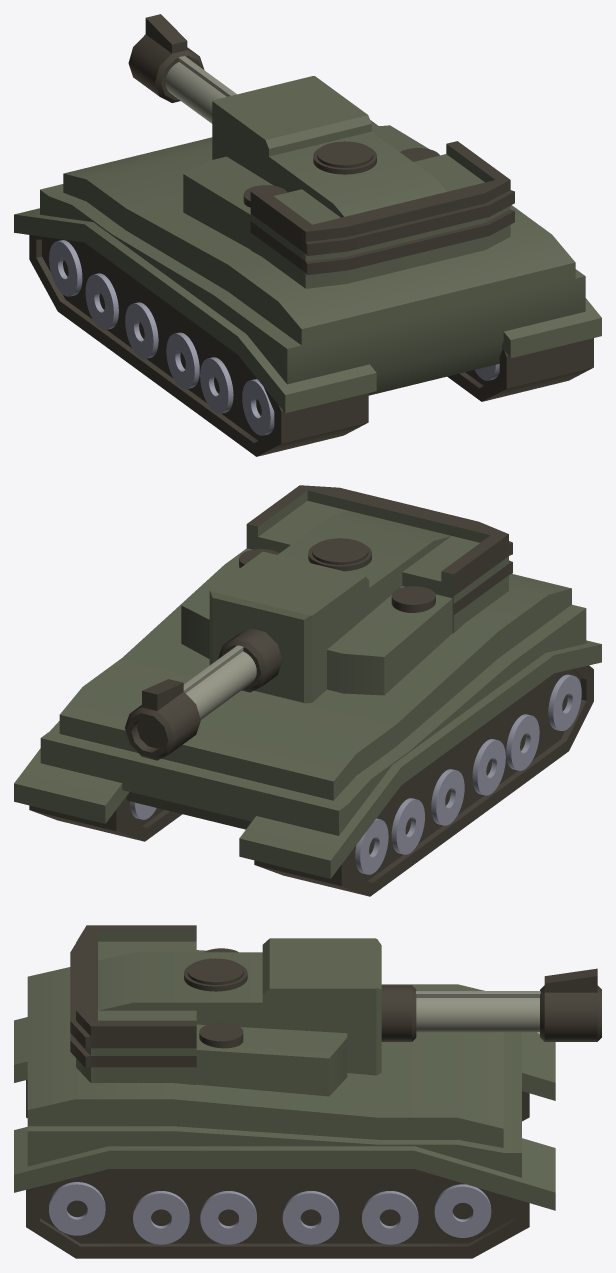
Rendered from tower_1.fbx.
3 views of the same model, one above another, from view 1: azimuth 30°, elevation 25°; view 2: azimuth 150°, elevation 25°; view 3: azimuth 270°, elevation 25° (orthographic).
Visible parts, largest first — view 1: 空白_1; view 2: 空白_1; view 3: 空白_1.
Part boxes in pixels (<box>): 空白_1: <box>14,14,601,456</box>; 空白_1: <box>14,485,601,896</box>; 空白_1: <box>14,925,601,1258</box>.
Bounding box in the file's own units: 58.23 × 38.63 × 93.77.
